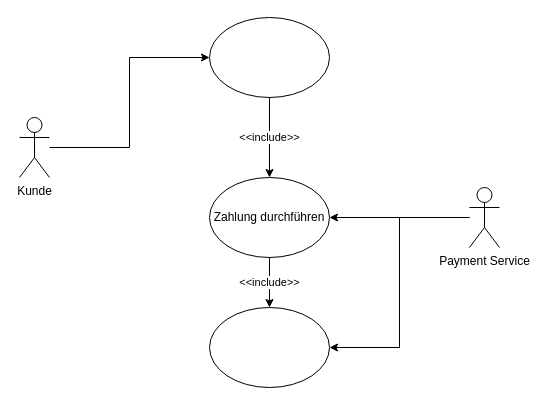
Some shapes in this 547 by 405 pixel diagram are drawn without their labels. The box of each missing label's shape, as (x1, y1, x2, y2) in pixels:
Bestellen: (208, 16, 330, 98)
Daten verifizieren: (208, 306, 330, 388)
